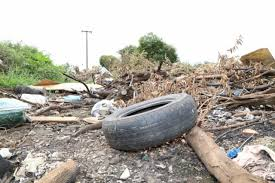tire: (102, 93, 198, 152)
